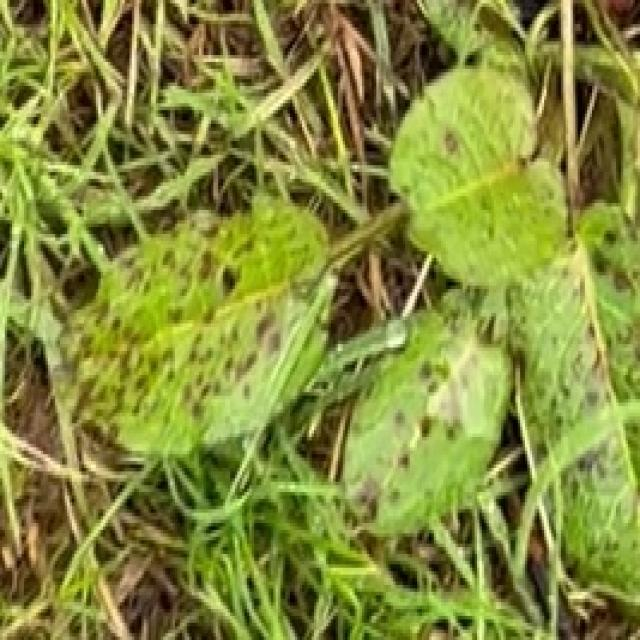organic waste: (129, 62, 640, 568)
